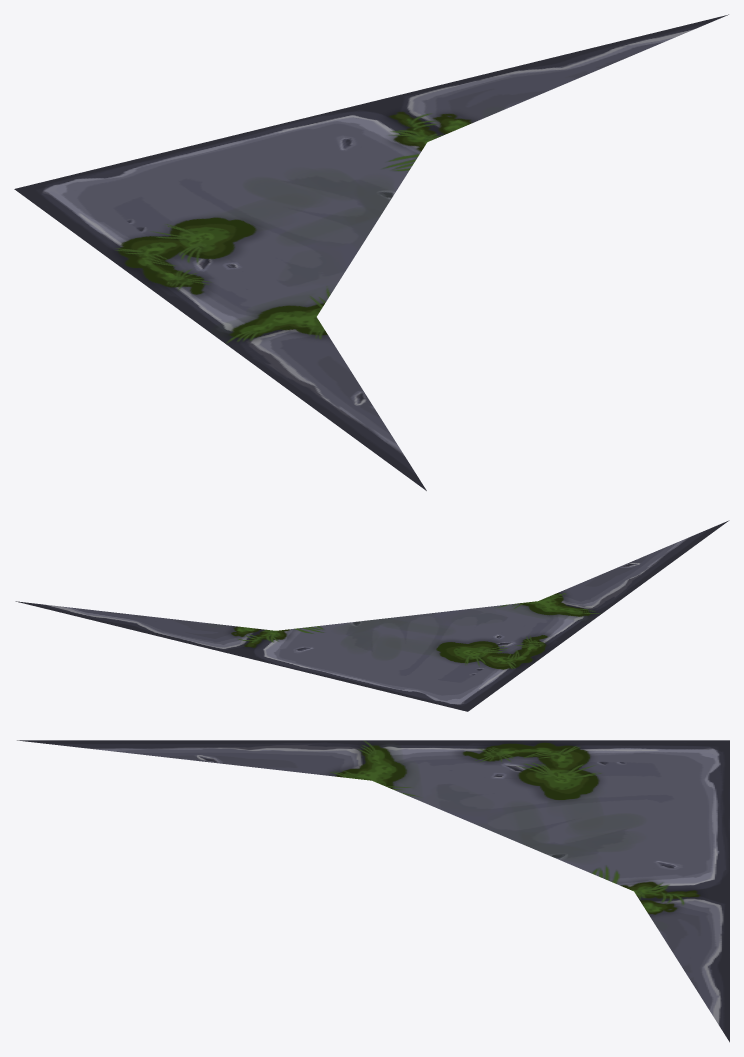
Rendered from MOD_Floor_01_O_concave_tiny.fbx.
The picture shows the model from 3 angles, top to bottom: view 1: azimuth 30°, elevation 25°; view 2: azimuth 150°, elevation 25°; view 3: azimuth 270°, elevation 25°; orthographic projection. The views are drawn at different scales.
Parts seen in each view (by area): view 1: MOD_Floor_01_O_concave_tiny; view 2: MOD_Floor_01_O_concave_tiny; view 3: MOD_Floor_01_O_concave_tiny.
Part boxes in pixels (left/top/right/bottom): MOD_Floor_01_O_concave_tiny: left=14, top=14, right=728, bottom=490; MOD_Floor_01_O_concave_tiny: left=15, top=520, right=729, bottom=711; MOD_Floor_01_O_concave_tiny: left=17, top=740, right=729, bottom=1042.
Bounding box in the file's own units: 200 × 0 × 200.
